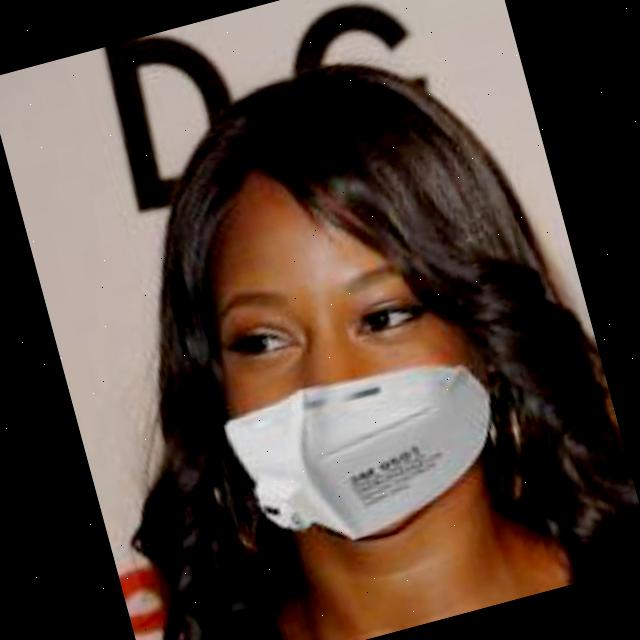suspicion: (88, 73, 538, 585)
